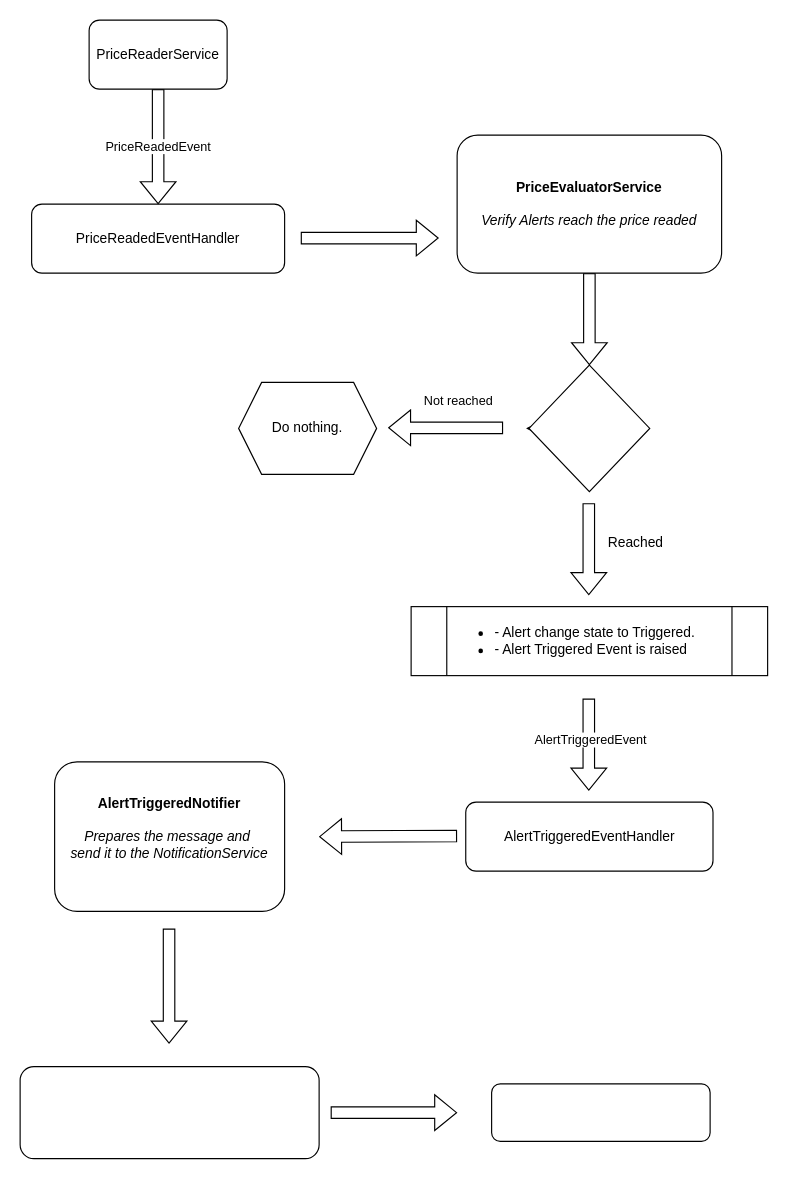
Some shapes in this 788 by 1179 pixel diagram are drawn without their labels. The shapes that lost their labels are listed below. From the top down, each one's box as (x1, y1, x2, y2) in pixels, then its label:
(528, 364, 650, 492): Target Reached
(19, 1065, 319, 1159): NotificationService (In our case, SignalR implementation)
(490, 1083, 710, 1141): Client receive message
